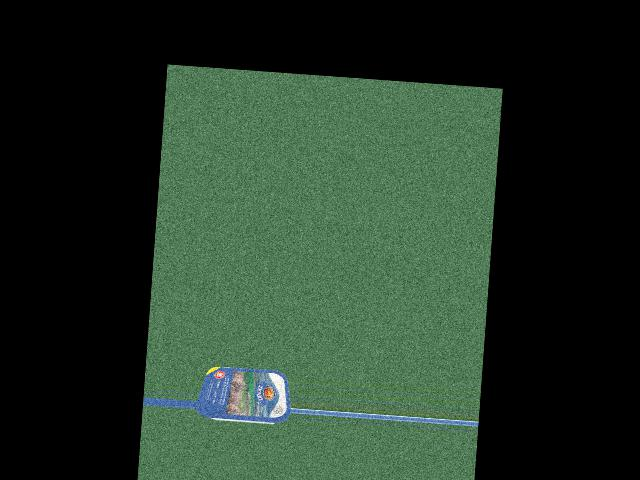cheese: (205, 363, 286, 431)
